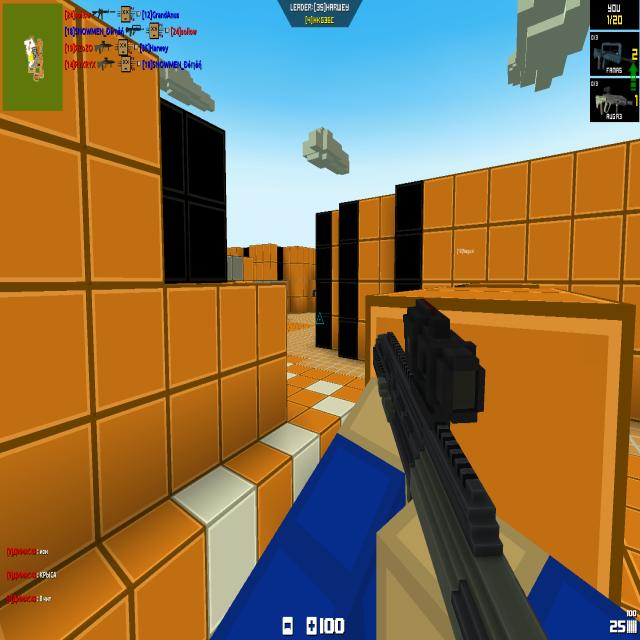enemy: (312, 289, 316, 298)
